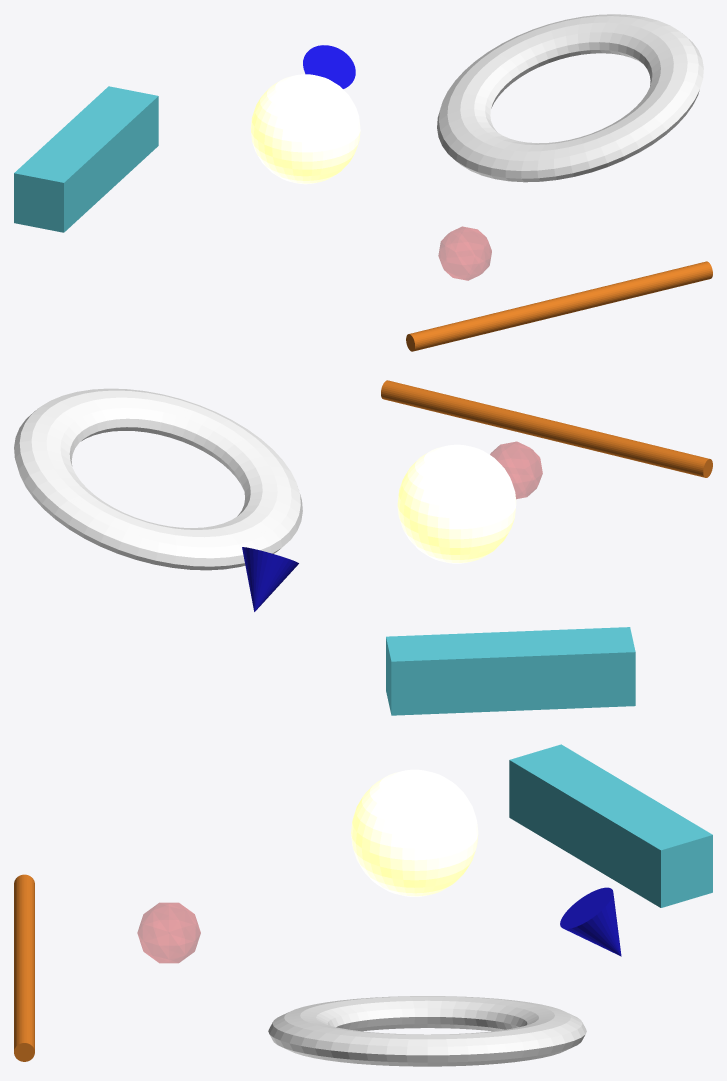
3 views of the same model, one above another, from view 1: azimuth 30°, elevation 25°; view 2: azimuth 150°, elevation 25°; view 3: azimuth 270°, elevation 25° (orthographic). The views are drawn at different scales.
Visible parts, largest first — view 1: Torus, Cube, Sphere, Cylinder, Icosphere, Cone; view 2: Torus, Cube, Sphere, Cylinder, Cone, Icosphere; view 3: Cube, Torus, Sphere, Cylinder, Icosphere, Cone.
Boxes of the visible parts, x1=… form: Torus: x1=437, y1=14, x2=703, y2=182; Cube: x1=14, y1=86, x2=158, y2=232; Sphere: x1=250, y1=74, x2=360, y2=184; Cylinder: x1=406, y1=261, x2=712, y2=351; Icosphere: x1=438, y1=226, x2=491, y2=280; Cone: x1=303, y1=45, x2=355, y2=88; Torus: x1=14, y1=388, x2=302, y2=570; Cube: x1=386, y1=627, x2=635, y2=715; Sphere: x1=397, y1=444, x2=516, y2=563; Cylinder: x1=381, y1=380, x2=712, y2=477; Cone: x1=242, y1=547, x2=298, y2=611; Icosphere: x1=490, y1=441, x2=542, y2=498; Cube: x1=509, y1=744, x2=712, y2=907; Torus: x1=268, y1=996, x2=586, y2=1066; Sphere: x1=351, y1=769, x2=478, y2=896; Cylinder: x1=14, y1=874, x2=34, y2=1061; Icosphere: x1=137, y1=903, x2=200, y2=962; Cone: x1=560, y1=887, x2=621, y2=956.
Size of what is drawn, in the model's own units: 6.43 by 1.35 by 5.48.
